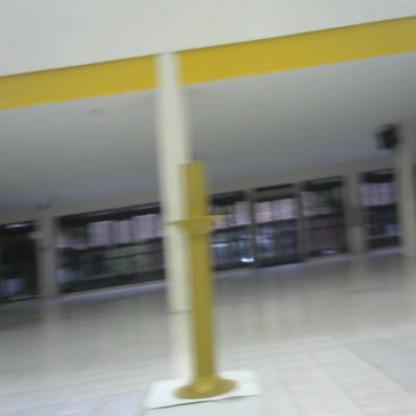pole: (167, 153, 240, 405)
